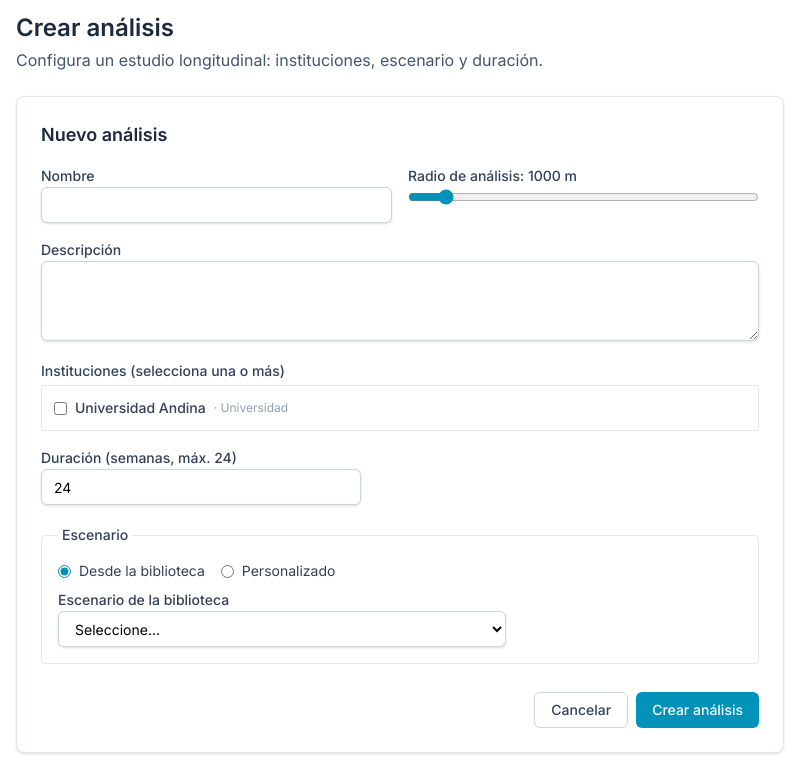
Test: GdsAnalisisNuevo (creación de análisis) › bloquea el alta sin institución y muestra el error de validación (Req. 8.4)
The image size is (801, 780).
expect the text "Universidad Andina" is shown: met, box [75,398,206,418]
Type "Sin instituciones" into the field named "Nombre del análisis" at (216, 205), box [41,187,392,223]
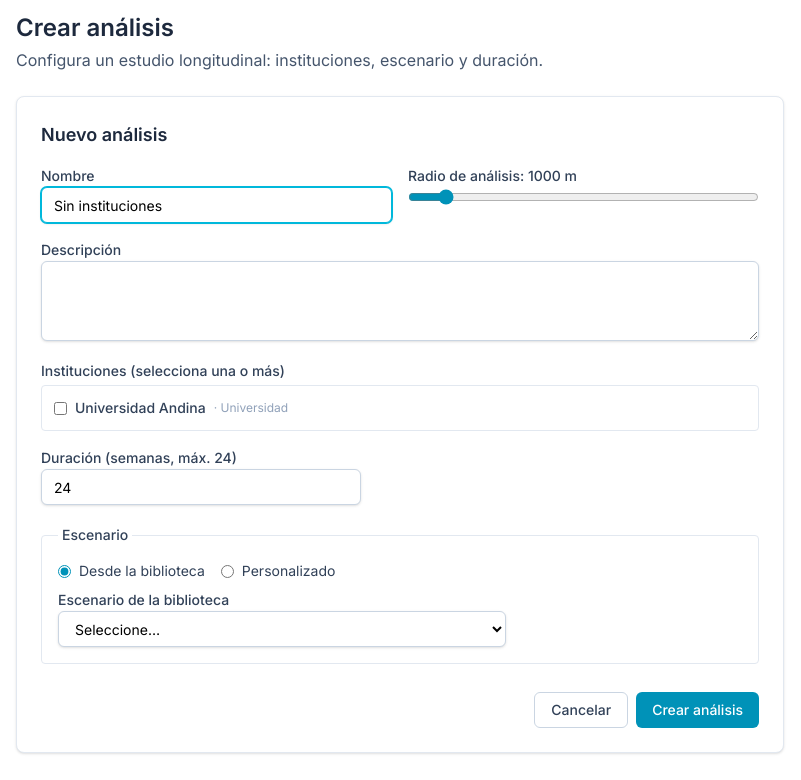
Select "Conflicto Universitario" in the dropdown labelled "Escenario de la biblioteca" at (282, 629), box [58,611,506,647]
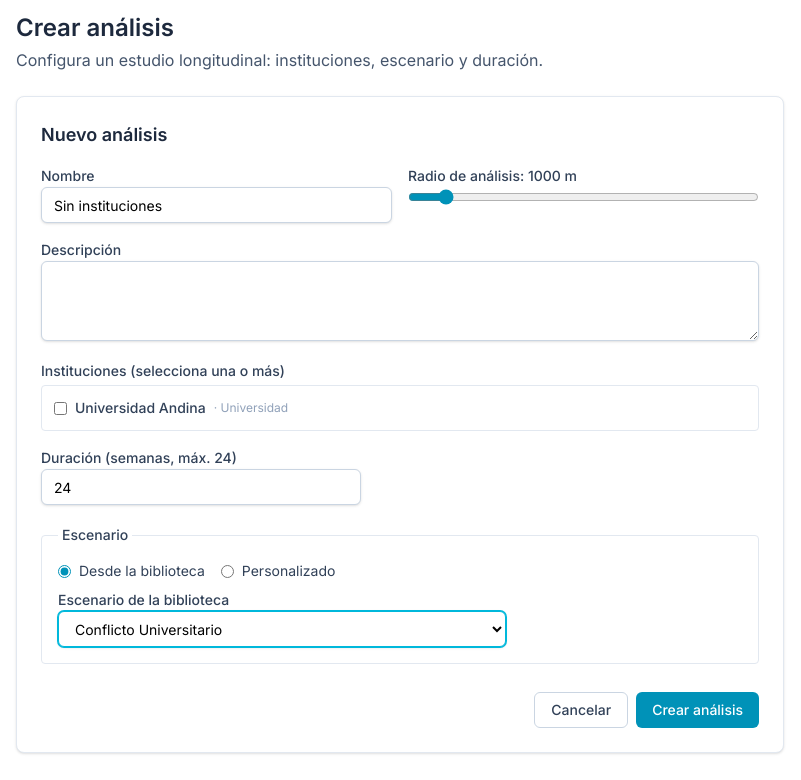
Click the button "Crear análisis" at (698, 710), box [636,692,759,728]
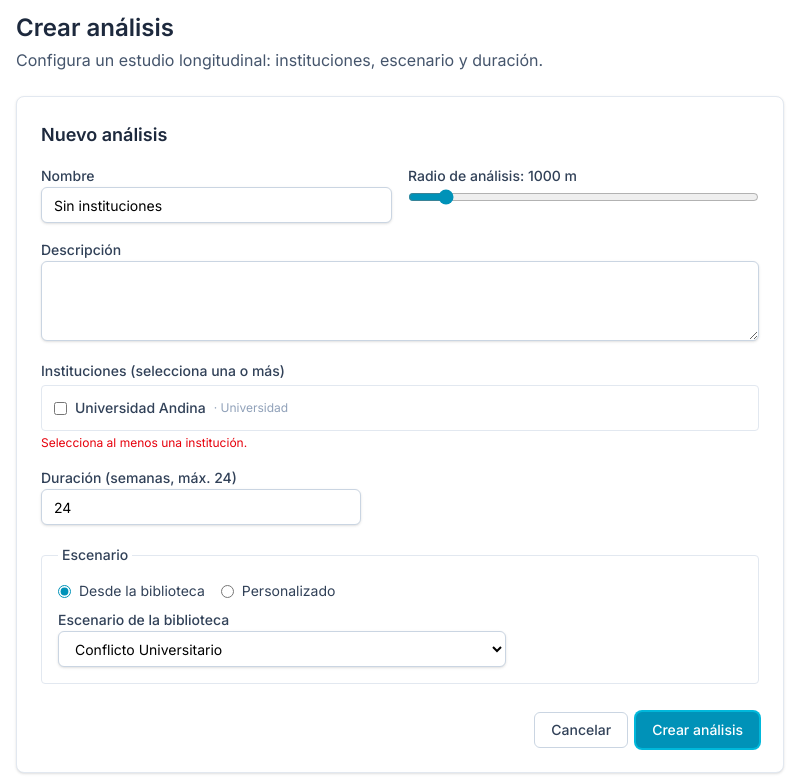
expect the text "Selecciona al menos una institución." is shown: met, box [41,435,247,450]
